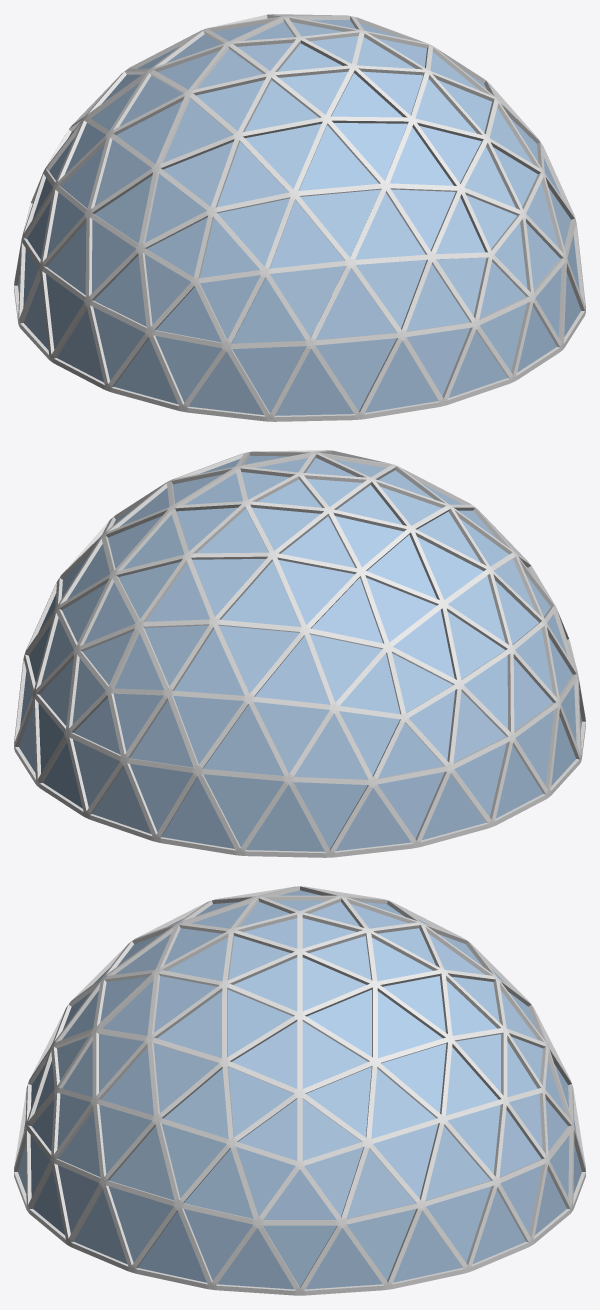
File: dome.fbx
3 views of the same model, one above another, from view 1: azimuth 30°, elevation 25°; view 2: azimuth 150°, elevation 25°; view 3: azimuth 270°, elevation 25° (orthographic).
Parts seen in each view (by area): view 1: Icosphere; view 2: Icosphere; view 3: Icosphere.
Part boxes in pixels (x1,y1,x2,y2): Icosphere: (14, 14, 585, 421); Icosphere: (14, 450, 585, 857); Icosphere: (14, 886, 585, 1295).
Bounding box in the file's own units: 99690 × 50329 × 99686.
